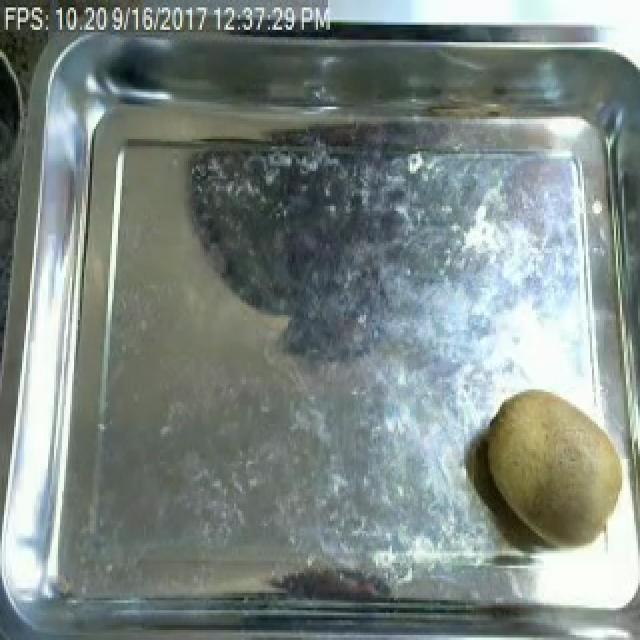Fruit: (476, 380, 638, 558)
